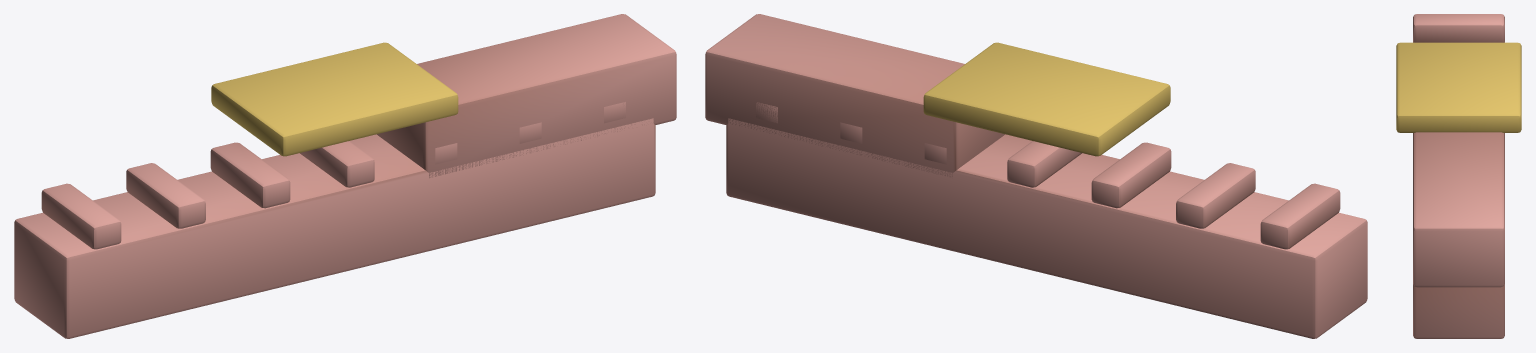
The picture shows the model from 3 angles, left to right: view 1: azimuth 30°, elevation 25°; view 2: azimuth 150°, elevation 25°; view 3: azimuth 270°, elevation 25°; orthographic projection. The views are drawn at different scales.
Parts seen in each view (by area): view 1: landmark_d835e4c6; view 2: landmark_d835e4c6; view 3: landmark_d835e4c6.
Boxes of the visible parts, <box> form: landmark_d835e4c6: <box>14,14,676,338</box>; landmark_d835e4c6: <box>705,14,1367,338</box>; landmark_d835e4c6: <box>1396,14,1521,338</box>.
Bounding box in the file's own units: 14.5 × 3.65 × 3.
